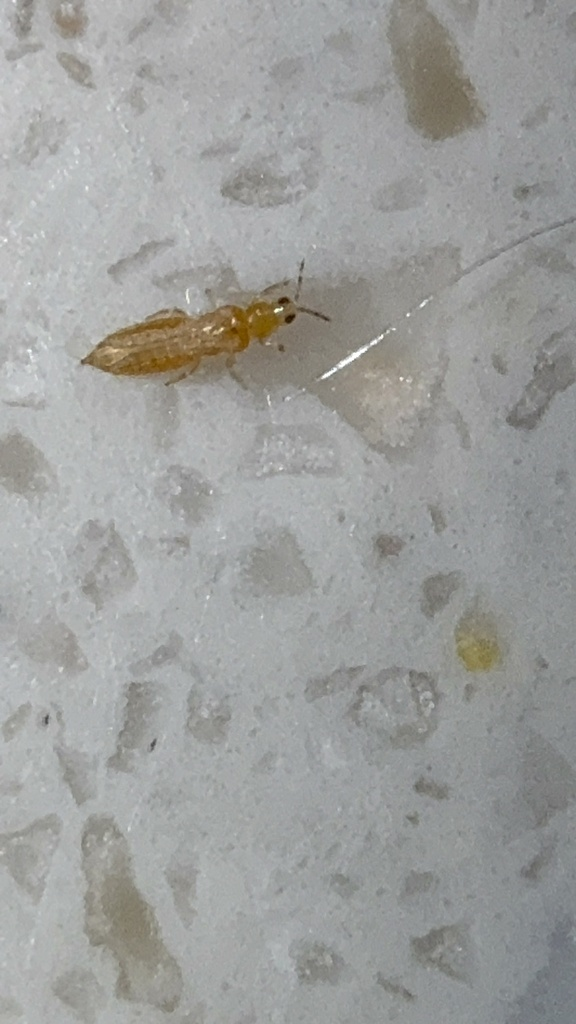tiny_pests: (48, 206, 392, 456)
